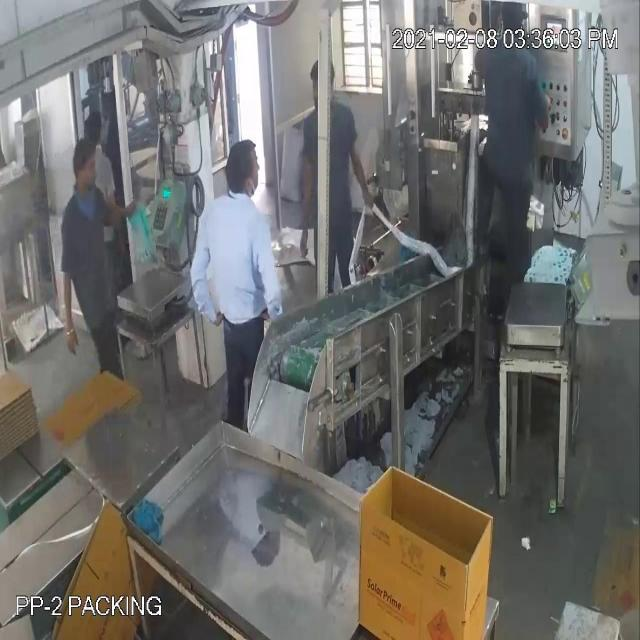No_Gloves: (28, 45, 356, 306)
